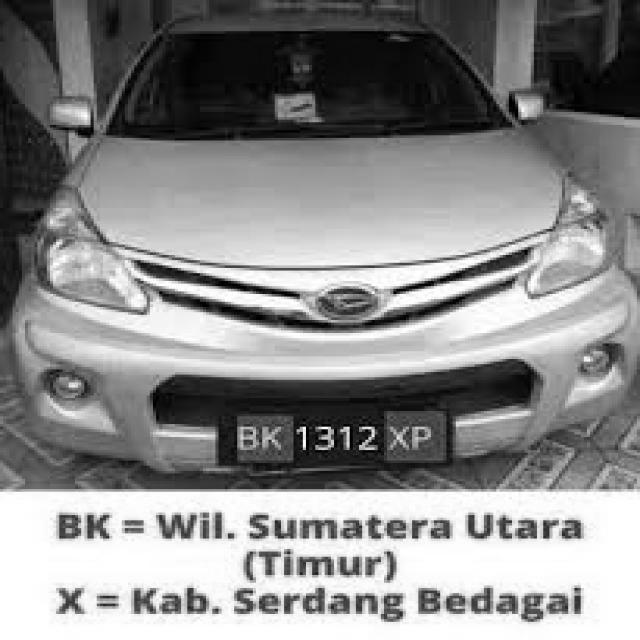1: (336, 421, 354, 464), (296, 420, 314, 458)
2: (358, 426, 380, 456)
3: (310, 420, 334, 456)
B: (237, 424, 260, 452)
K: (260, 424, 286, 450)
P: (411, 420, 428, 460)
X: (386, 428, 410, 460)
